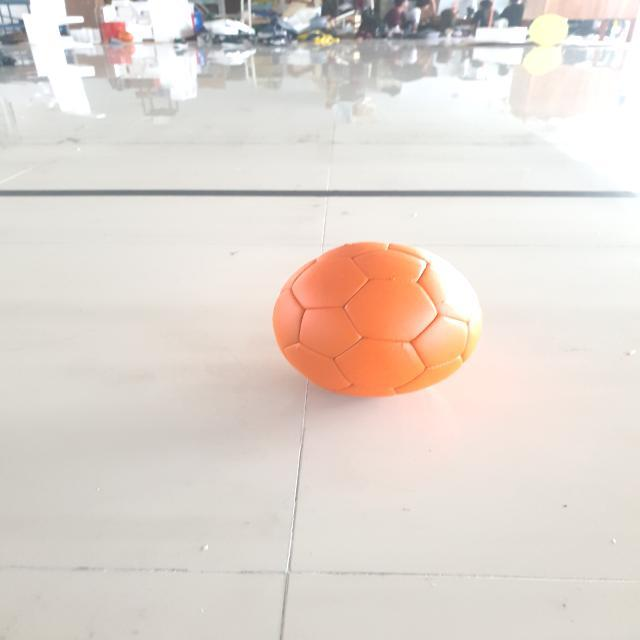bola: (271, 233, 492, 407)
